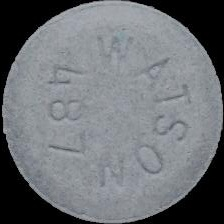63187-482: (0, 0, 224, 224)
